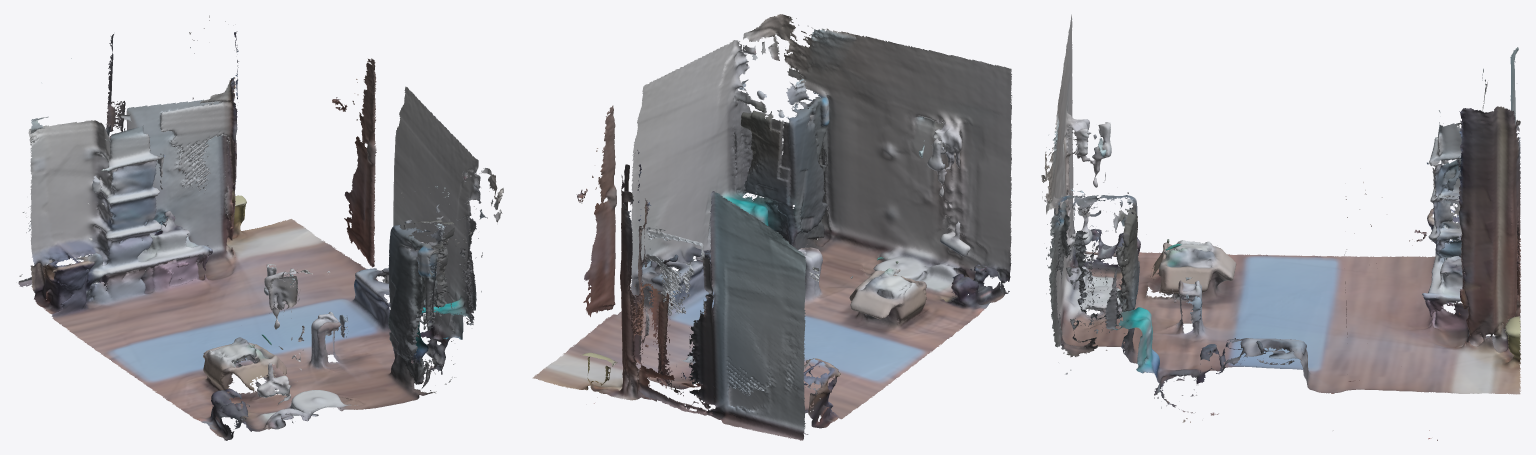
Rendered from apartment-detail-3-4d0029a8b1c1.glb.
3 views of the same model, side by side, from view 1: azimuth 30°, elevation 25°; view 2: azimuth 150°, elevation 25°; view 3: azimuth 270°, elevation 25° (orthographic). The views are drawn at different scales.
Bounding box in the file's own units: 2.39 × 2.34 × 3.39.
